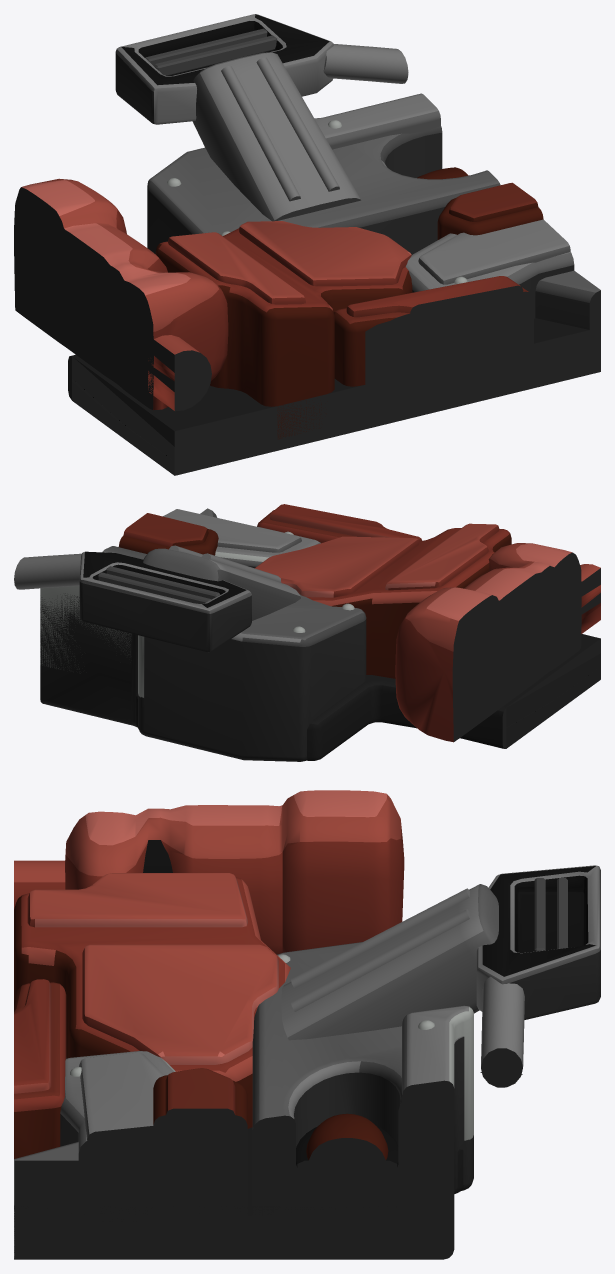
File: core_machine_tcr.glb
The picture shows the model from 3 angles, top to bottom: view 1: azimuth 30°, elevation 25°; view 2: azimuth 150°, elevation 25°; view 3: azimuth 270°, elevation 25°; orthographic projection. The views are drawn at different scales.
Visible parts, largest first — view 1: core.001, chassis.001, housing_r.001, chest_r.001, lower_plate_r.001, stack_r.001, cap_r.001, chest_panel0_r.001, deck_panel_r.001, lower_panel_r.001, chest_panel1_r.001, brow_r.001 (+11 smaller); view 2: housing_r.001, core.001, cap_r.001, chassis.001, chest_r.001, chest_panel0_r.001, stack_r.001, chest_panel1_r.001, brow_r.001, deck_panel_r.001, lower_panel_r.001, pipe_r.001 (+8 smaller); view 3: core.001, housing_r.001, chassis.001, chest_panel0_r.001, stack_r.001, deck_r.001, cap_r.001, brow_r.001, strip_r.001, chest_r.001, chest_panel1_r.001, arm_step_r.001 (+13 smaller).
Part boxes in pixels (<box>): core.001: <box>14,178,228,410</box>; chassis.001: <box>68,318,600,475</box>; housing_r.001: <box>147,126,500,254</box>; chest_r.001: <box>155,228,412,439</box>; lower_plate_r.001: <box>333,287,533,421</box>; stack_r.001: <box>192,52,360,221</box>; cap_r.001: <box>115,14,333,124</box>; chest_panel0_r.001: <box>239,221,411,286</box>; deck_panel_r.001: <box>418,219,570,284</box>; lower_panel_r.001: <box>346,276,523,323</box>; chest_panel1_r.001: <box>168,232,305,304</box>; brow_r.001: <box>314,93,440,149</box>; housing_r.001: <box>40,546,366,761</box>; core.001: <box>395,543,581,742</box>; cap_r.001: <box>79,551,251,652</box>; chassis.001: <box>136,634,600,760</box>; chest_r.001: <box>306,528,511,678</box>; chest_panel0_r.001: <box>255,536,419,597</box>; stack_r.001: <box>143,548,300,620</box>; chest_panel1_r.001: <box>385,523,499,590</box>; brow_r.001: <box>40,586,144,697</box>; deck_panel_r.001: <box>163,509,301,552</box>; lower_panel_r.001: <box>270,504,421,541</box>; pipe_r.001: <box>14,553,81,589</box>; core.001: <box>65,790,404,954</box>; housing_r.001: <box>252,942,473,1259</box>; chassis.001: <box>14,1057,464,1259</box>; chest_panel0_r.001: <box>82,944,278,1064</box>; stack_r.001: <box>281,884,498,1040</box>; deck_r.001: <box>60,1051,192,1259</box>; cap_r.001: <box>476,865,600,1019</box>; brow_r.001: <box>402,1005,473,1214</box>; strip_r.001: <box>153,1075,247,1259</box>; chest_r.001: <box>14,877,290,1128</box>; chest_panel1_r.001: <box>27,873,247,927</box>; arm_step_r.001: <box>14,1142,98,1259</box>.
Size of the model in its own units: 24 by 11.56 by 23.6.
